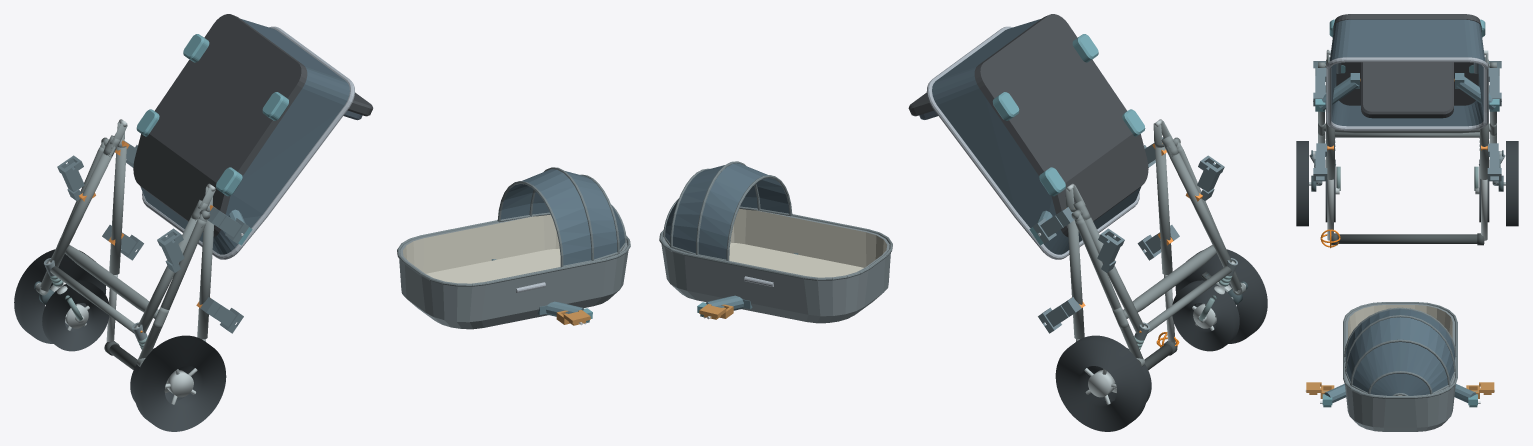
File: D21_w650_state3_wheel_M.glb
3 views of the same model, side by side, from view 1: azimuth 30°, elevation 25°; view 2: azimuth 150°, elevation 25°; view 3: azimuth 270°, elevation 25° (orthographic). The views are drawn at different scales.
Visible parts, largest first — view 1: D21_Lower, D21_Upper, RL_tire.011, FR_tire.011, RR_tire.011, main_upper_1.012, main_lower_1.012, V46_rearbar.011, V46_rear_leg_-1.011, main_upper_-1.012, main_lower_-1.012, front_fixed_round_tube.011 (+4 smaller); view 2: D21_Lower, D21_Upper, RR_tire.011, FL_tire.011, RL_tire.011, main_upper_-1.012, main_lower_-1.012, V46_rearbar.011, V46_rear_leg_1.011, main_upper_1.012, main_lower_1.012, front_fixed_round_tube.011 (+4 smaller); view 3: D21_Lower, D21_Upper, round_handle.013, D21_Lower_Mount_M, RL_tire.011, RR_tire.011, D21_Upper_Mount_H, front_fixed_round_tube.011, Universal_Cabin_Receiver_H_1, Universal_Cabin_Receiver_H_-1, main_upper_1.012, main_upper_-1.012 (+9 smaller).
Boxes of the visible parts, <box> form: D21_Lower: <box>133,14,373,259</box>; D21_Upper: <box>397,167,630,329</box>; RL_tire.011: <box>134,335,226,431</box>; FR_tire.011: <box>42,280,109,351</box>; RR_tire.011: <box>14,249,106,343</box>; main_upper_1.012: <box>109,146,126,274</box>; main_lower_1.012: <box>49,146,115,267</box>; V46_rearbar.011: <box>65,245,158,318</box>; V46_rear_leg_-1.011: <box>138,218,206,358</box>; main_upper_-1.012: <box>197,212,213,339</box>; main_lower_-1.012: <box>138,216,199,333</box>; front_fixed_round_tube.011: <box>50,266,134,333</box>; D21_Lower: <box>908,14,1148,259</box>; D21_Upper: <box>659,161,892,323</box>; RR_tire.011: <box>1055,335,1147,431</box>; FL_tire.011: <box>1172,280,1239,351</box>; RL_tire.011: <box>1175,249,1267,343</box>; main_upper_-1.012: <box>1155,146,1172,274</box>; main_lower_-1.012: <box>1166,146,1231,266</box>; V46_rearbar.011: <box>1123,245,1216,318</box>; V46_rear_leg_1.011: <box>1075,219,1143,359</box>; main_upper_1.012: <box>1067,212,1084,339</box>; main_lower_1.012: <box>1082,216,1143,333</box>; front_fixed_round_tube.011: <box>1147,266,1231,333</box>; D21_Lower: <box>1326,14,1488,130</box>; D21_Upper: <box>1343,302,1457,431</box>; round_handle.013: <box>1337,234,1484,243</box>; D21_Lower_Mount_M: <box>1313,73,1501,111</box>; RL_tire.011: <box>1296,141,1308,226</box>; RR_tire.011: <box>1506,141,1518,226</box>; D21_Upper_Mount_H: <box>1320,384,1480,407</box>; front_fixed_round_tube.011: <box>1335,132,1479,137</box>; Universal_Cabin_Receiver_H_1: <box>1487,143,1501,181</box>; Universal_Cabin_Receiver_H_-1: <box>1313,143,1327,181</box>; main_upper_1.012: <box>1480,82,1488,179</box>; main_upper_-1.012: <box>1326,82,1334,179</box>.
Size of the model in its own units: 1.89 by 1.08 by 0.781.
